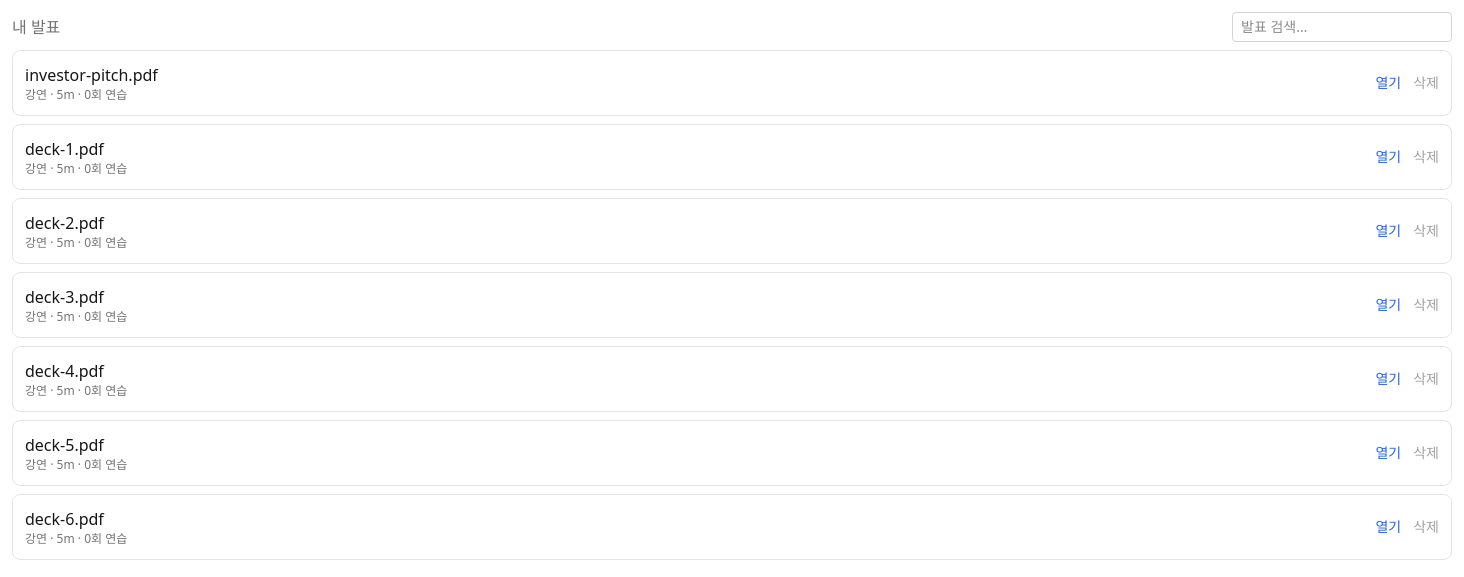
SessionList › 검색: 라벨로 필터링(6개 초과 시 검색창 노출)
Check: the link "investor-pitch.pdf" is shown, box [25, 64, 158, 86]
In the search field labelled "발표 검색…": (1342, 27) [1232, 12, 1452, 42], type "investor"
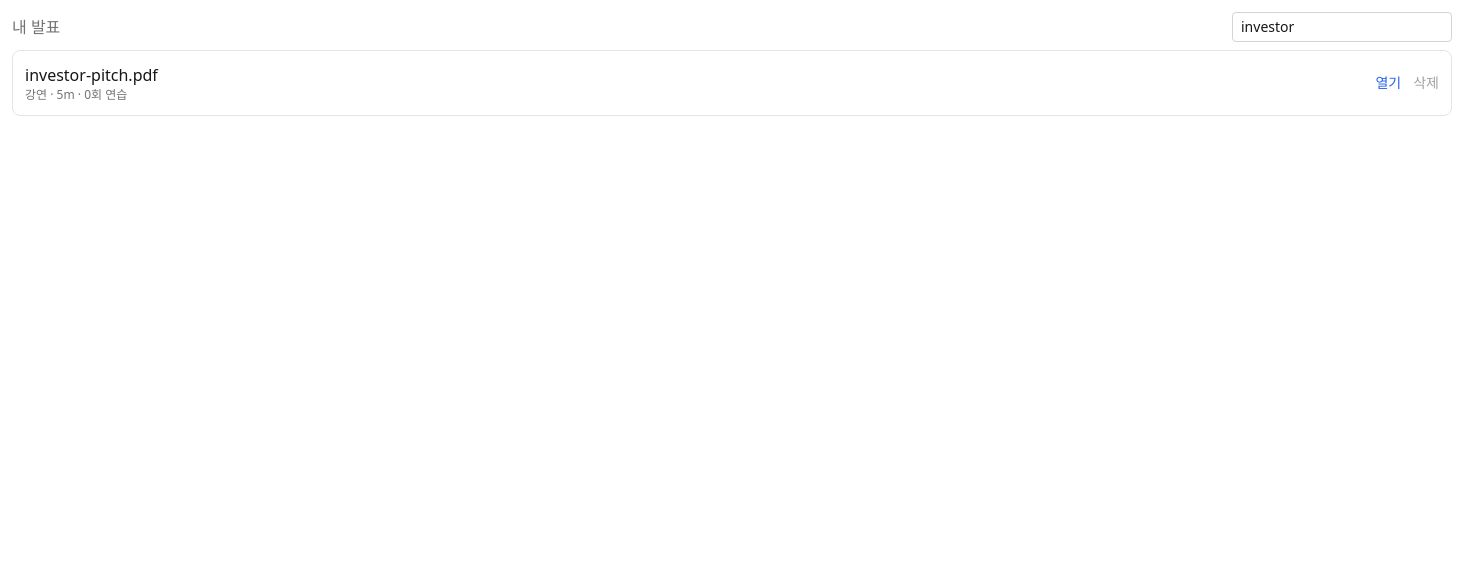
Check: the link "investor-pitch.pdf" is shown, box [25, 64, 158, 86]
Check: the link "deck-1.pdf" is gone
Replace the text in the search field named "발표 검색…" with "zzzz": (1342, 27) [1232, 12, 1452, 42]
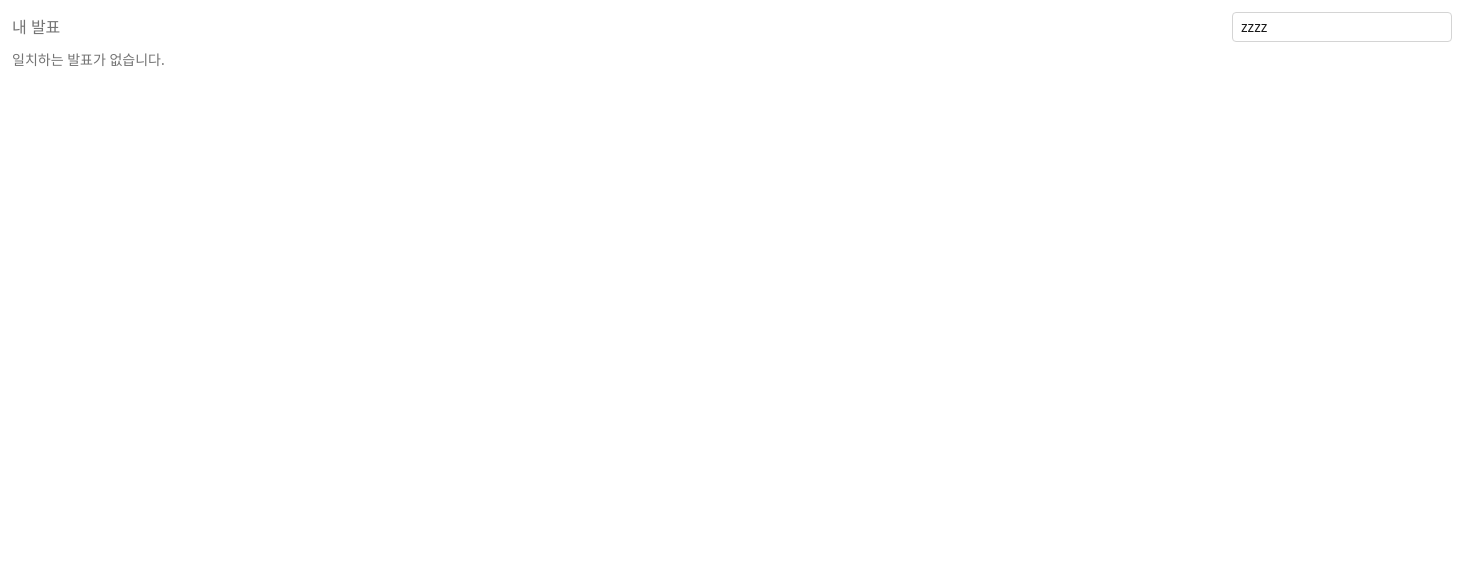
Check: the text "일치하는 발표가 없습니다." is shown, box [12, 50, 165, 69]
